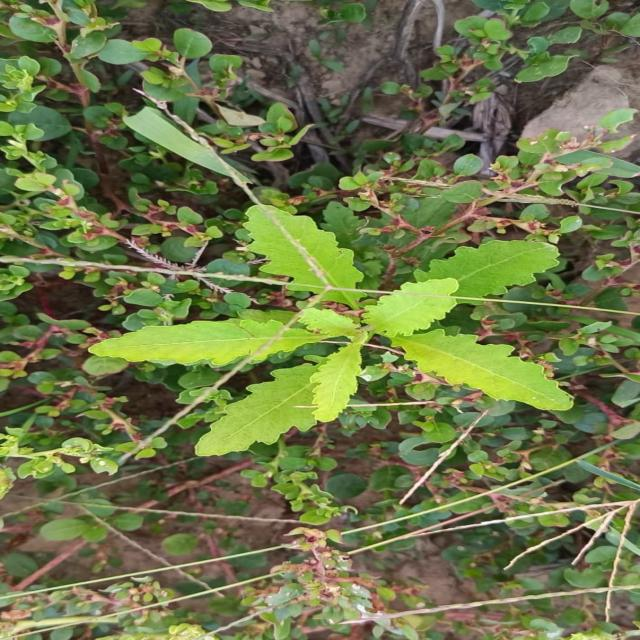weed: (89, 240, 571, 456), (248, 206, 363, 307)
